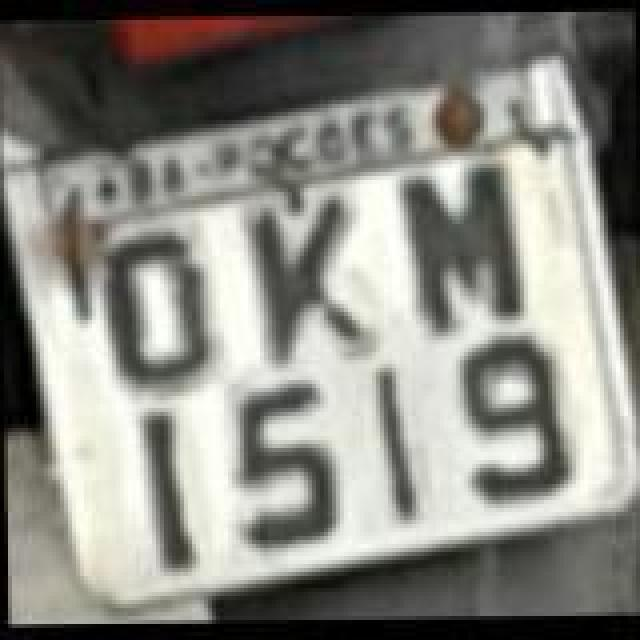1: (130, 412, 210, 580), (364, 360, 424, 520)
5: (232, 380, 348, 548)
9: (458, 330, 570, 502)
K: (254, 194, 374, 366)
N: (396, 158, 536, 338)
O: (90, 220, 218, 396)
